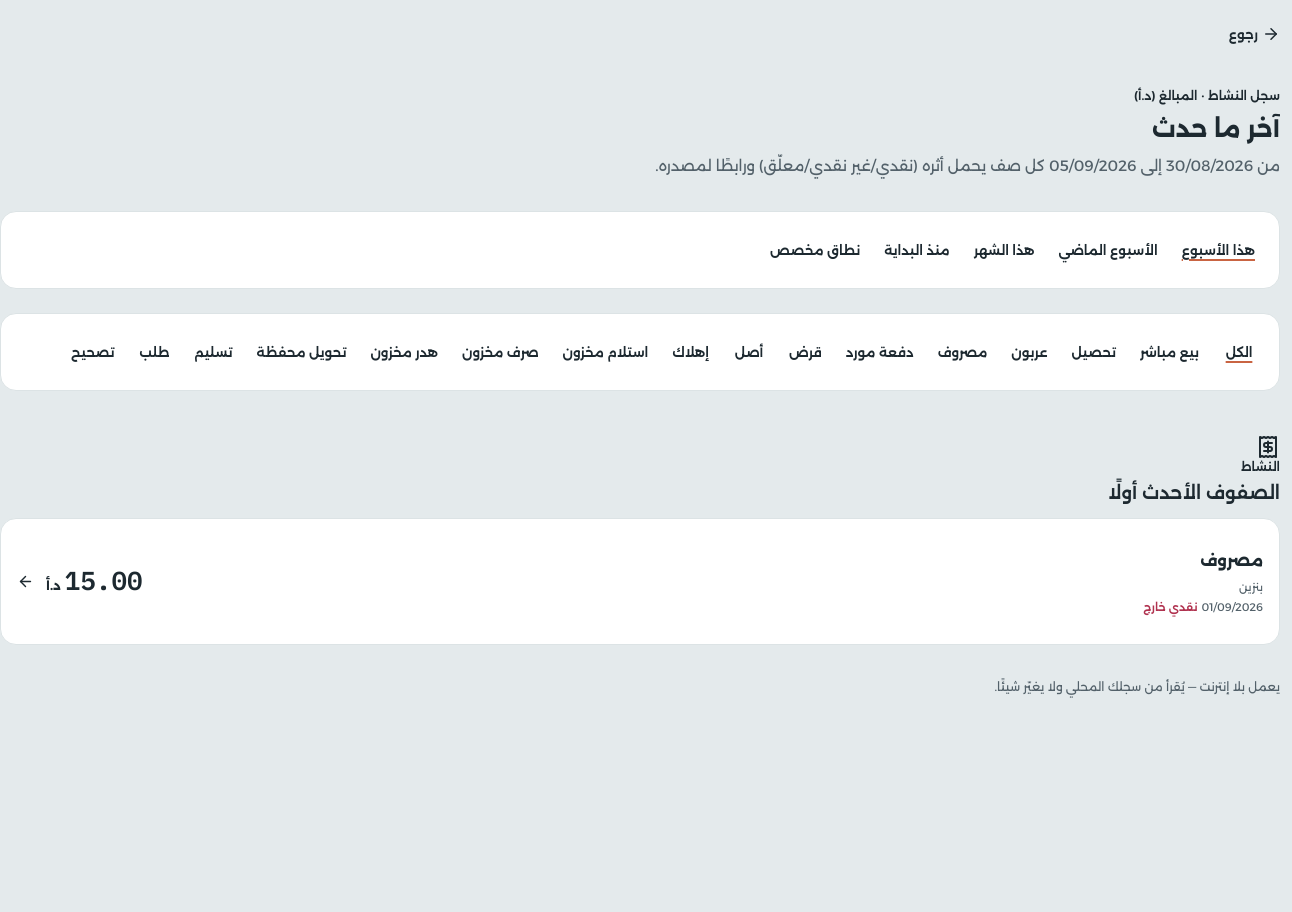
Scenario: FinanceActivity reader surface (المجموعة ٥ — عقد ٣٠) › family filter narrows the list as a display-only action
Expected: the text "بنزين" is shown, [1239,580,1263,594]
Click the button "قرض". click: click(805, 352)
box: [781,330,830,374]
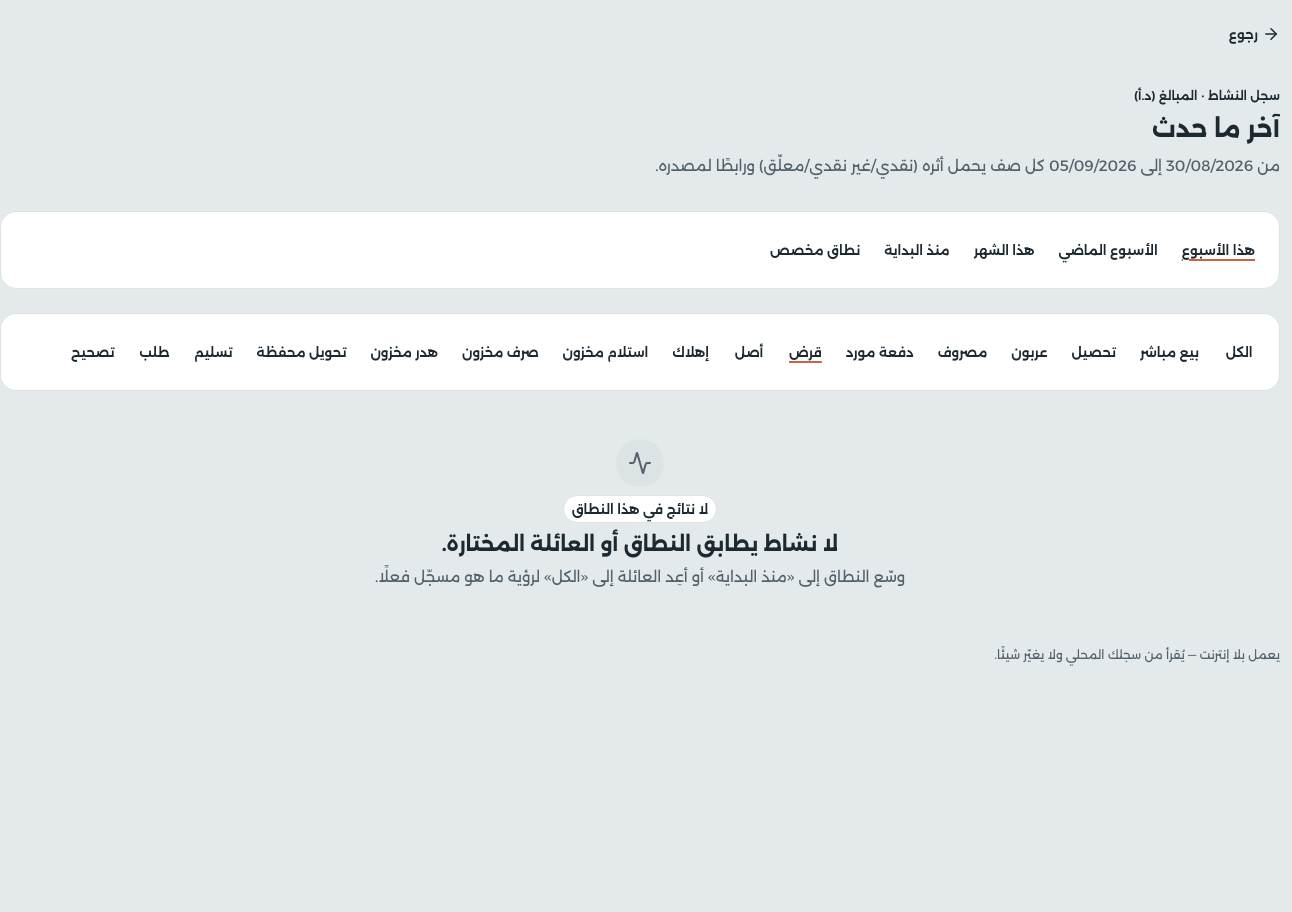
Result: the button "بنزين" is gone
